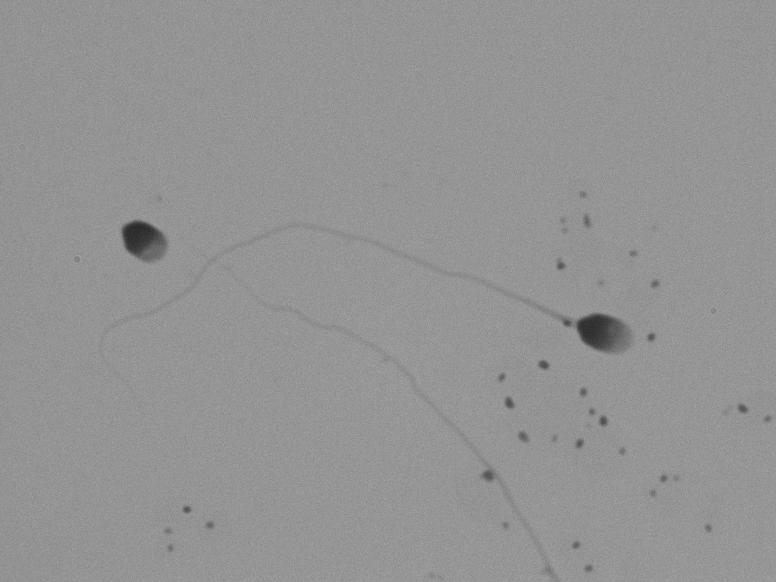Abnormal: (110, 162, 185, 314)
Normal: (175, 161, 666, 405)
